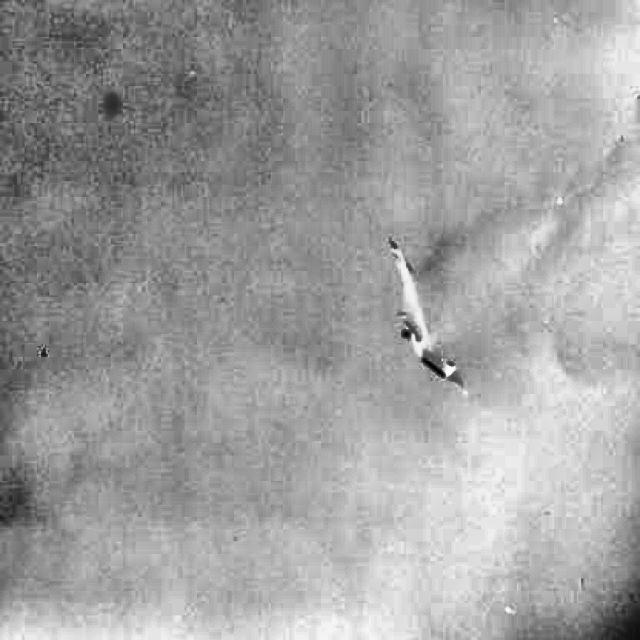XB70: (388, 239, 470, 395)
